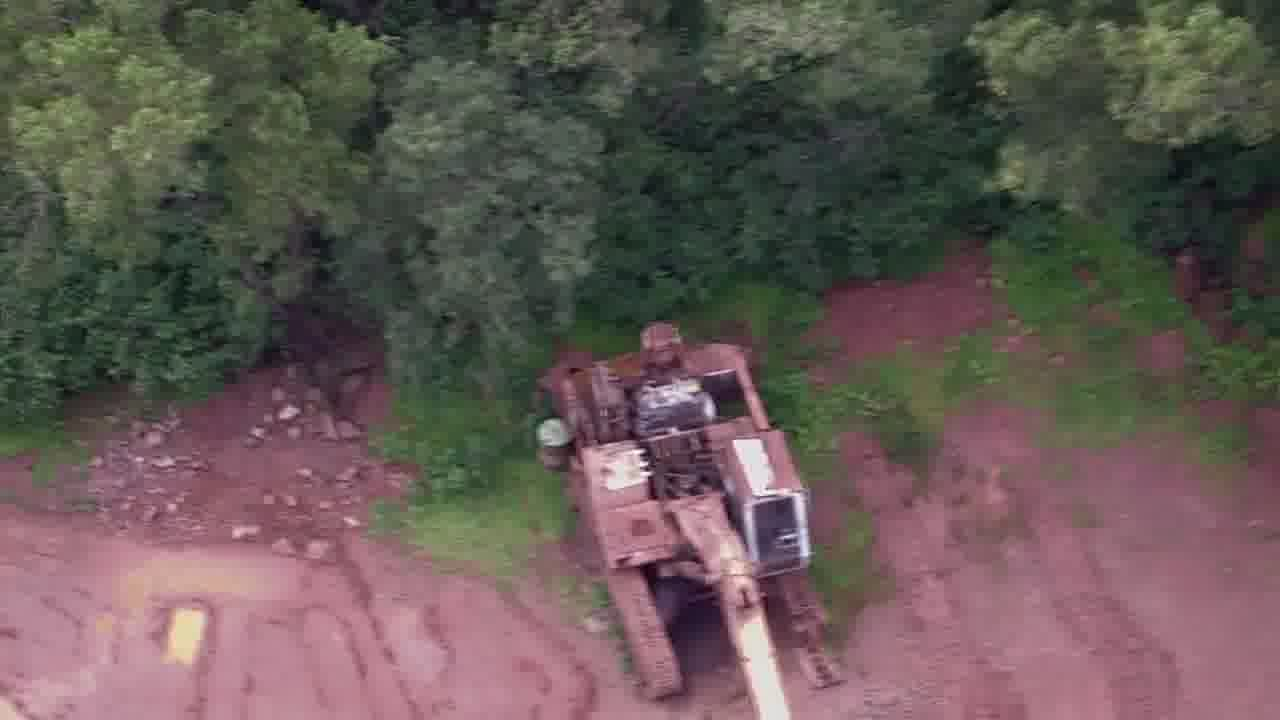HMV: (531, 318, 816, 720)
